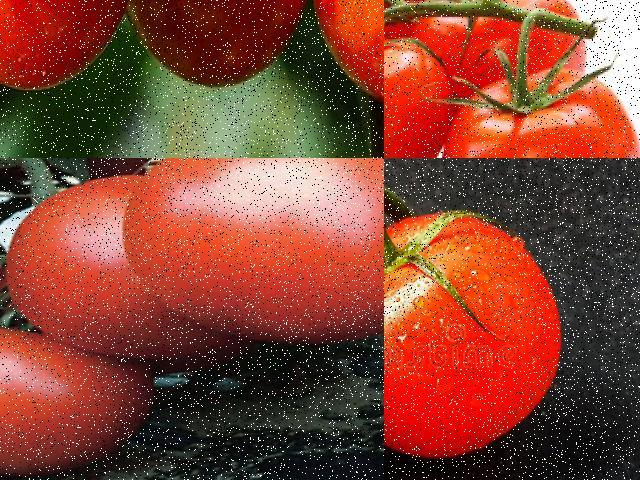tomato: (117, 158, 383, 361), (5, 172, 243, 380), (384, 216, 574, 458), (0, 326, 168, 473), (127, 0, 310, 111), (439, 0, 586, 112), (445, 77, 639, 157), (0, 0, 125, 95), (384, 25, 444, 157)
